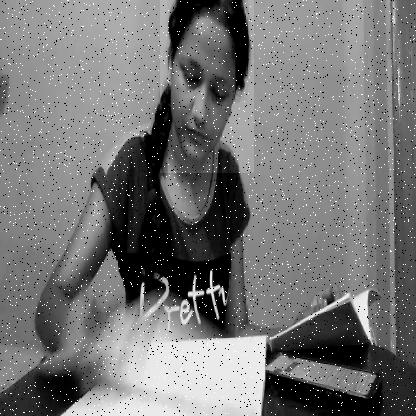Normal: (160, 0, 254, 173)
